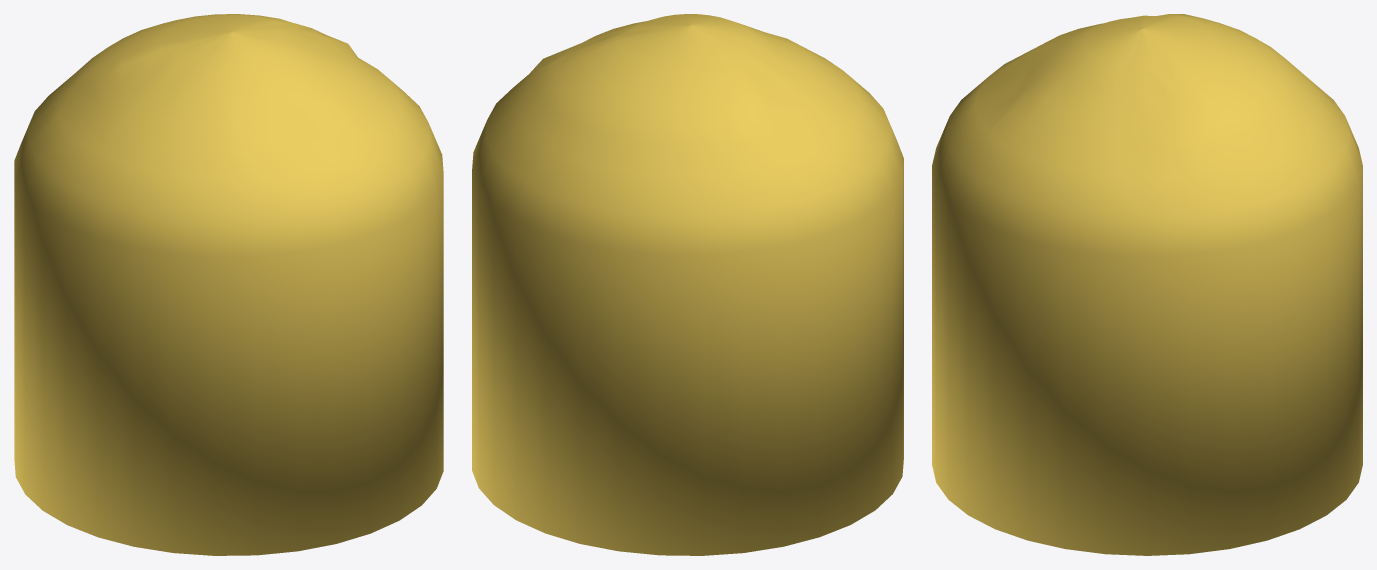
3 views of the same model, side by side, from view 1: azimuth 30°, elevation 25°; view 2: azimuth 150°, elevation 25°; view 3: azimuth 270°, elevation 25° (orthographic).
Visible parts, largest first — view 1: 円柱.001; view 2: 円柱.001; view 3: 円柱.001.
Part boxes in pixels (x1,y1,x2,y2): 円柱.001: (14,14,443,555); 円柱.001: (472,14,903,555); 円柱.001: (932,14,1362,555).
Bounding box in the file's own units: 1 × 1.12 × 1.
